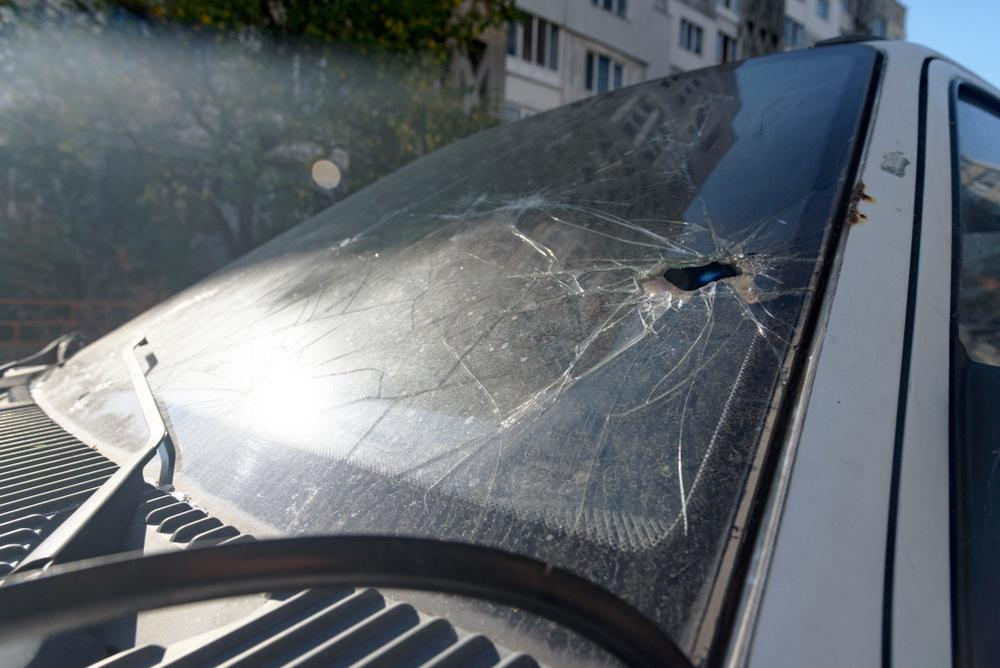glass shatter: (37, 45, 876, 668)
